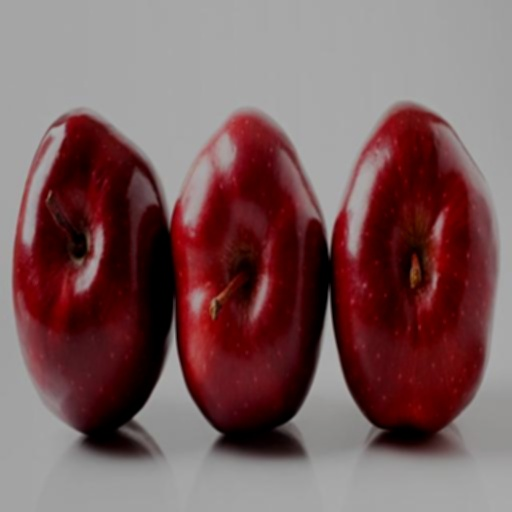fruit: (169, 182, 512, 512), (88, 116, 264, 458), (4, 147, 28, 511)
